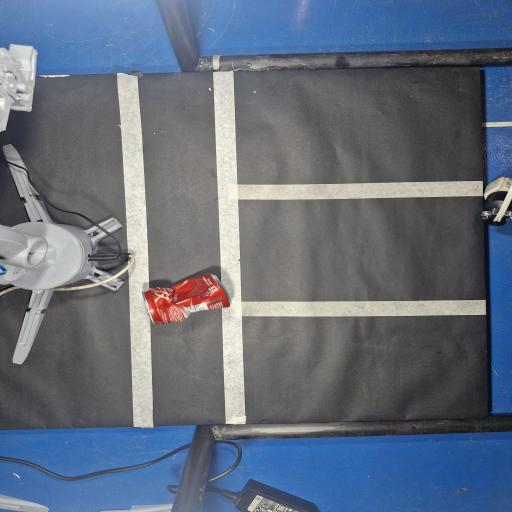lata_defectuoso: (144, 274, 230, 324)
